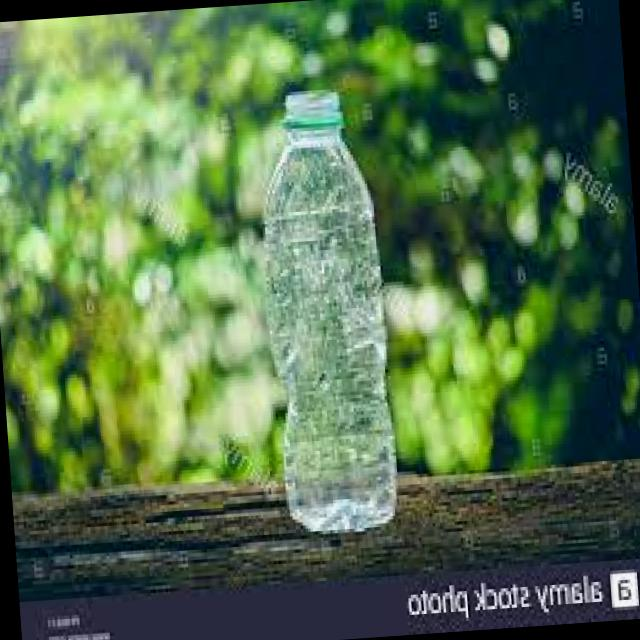plastic: (248, 76, 386, 550)
